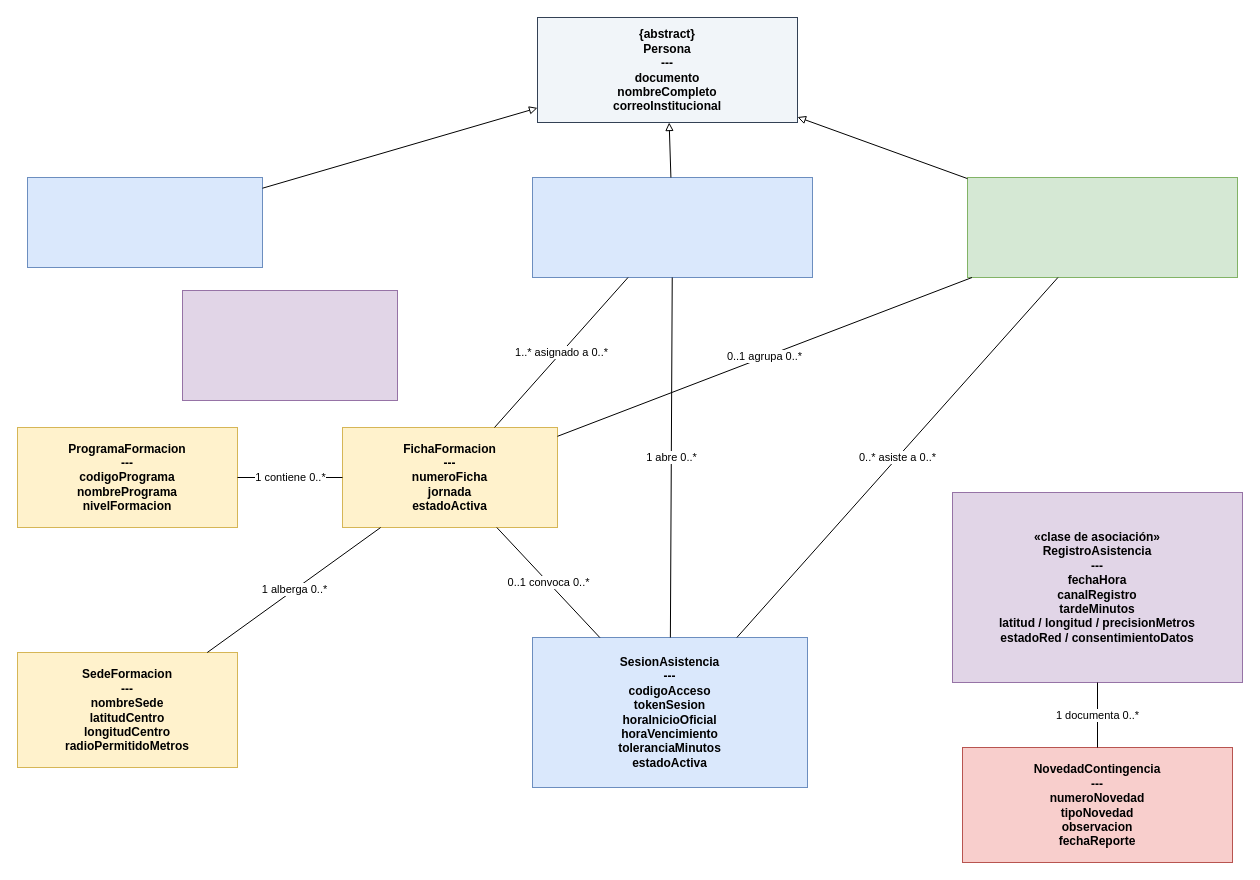
This 1260x880 diagram has some shape labels left out. The centre of each missing label's shape, as x and y in pixels:
"Aprendiz --- tokenCredencial estadoActivo fechaIngreso" belongs at (1102,227).
"CoordinadorAcademico --- areaAcademica estado" belongs at (144,222).
"Instructor --- nombreUsuario especialidad estado" belongs at (672,227).
"«clase de asociación» AsignacionInstructor --- fechaInicio fechaFin rolEnFicha" belongs at (290,345).
